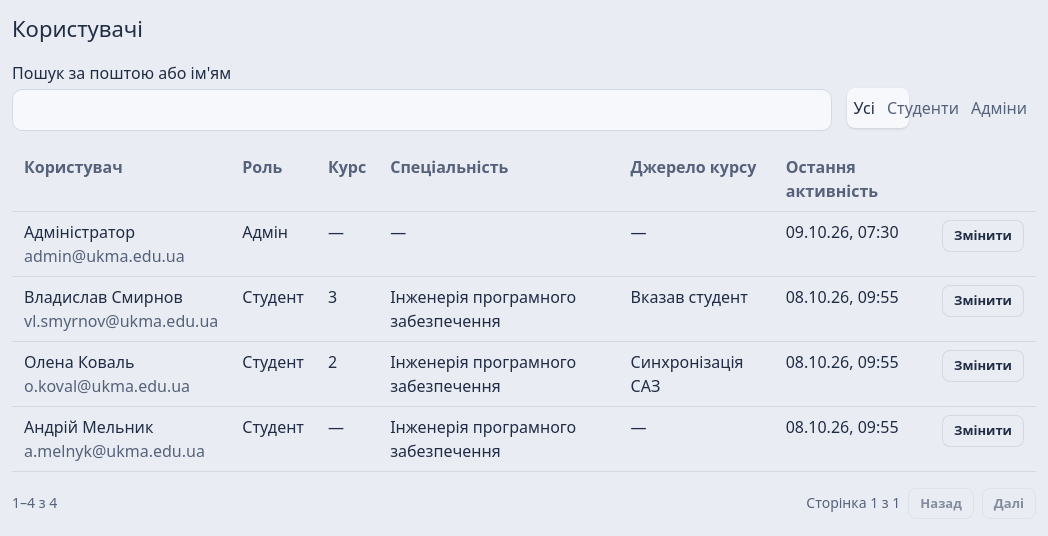
Test: UsersPage › фільтр «Адміни» показує лише адмінів
Check: the text "Владислав Смирнов" is shown, box [24, 286, 183, 308]
What coordinates should you click on to do the following:
click the button "Адміни"
I would click on:
 (999, 108)
Its box is [965, 88, 1033, 128].
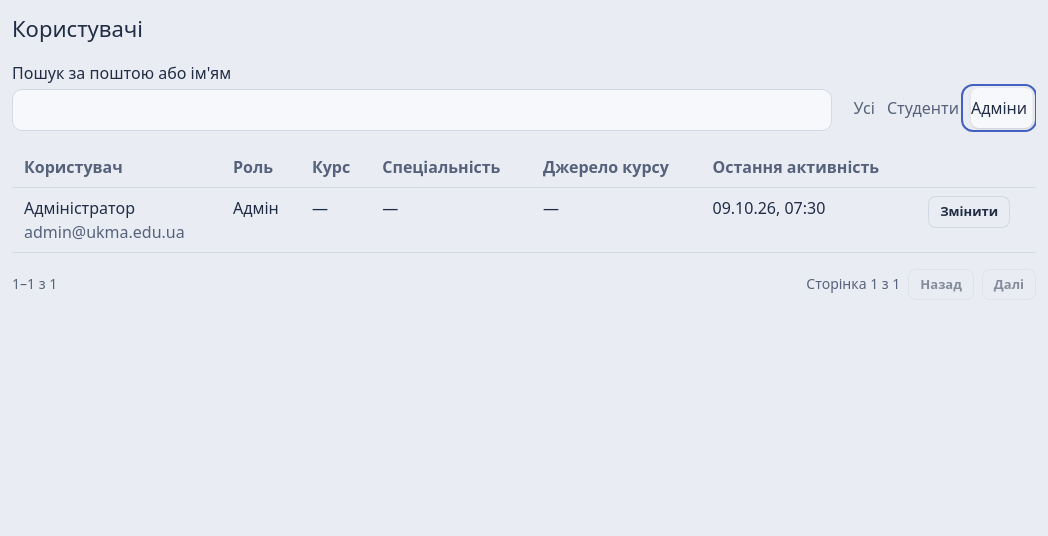
Check: the text "Адміністратор" is shown, box [24, 197, 135, 219]
Check: the text "Владислав Смирнов" is gone
